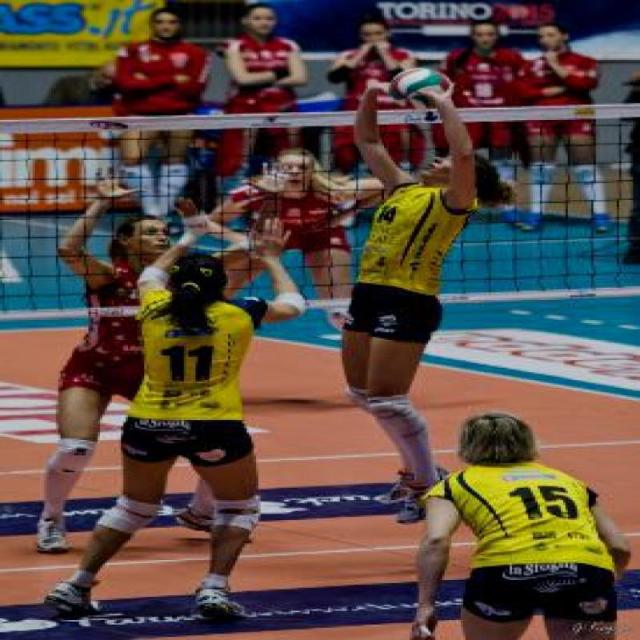volleyball: (388, 63, 449, 109)
